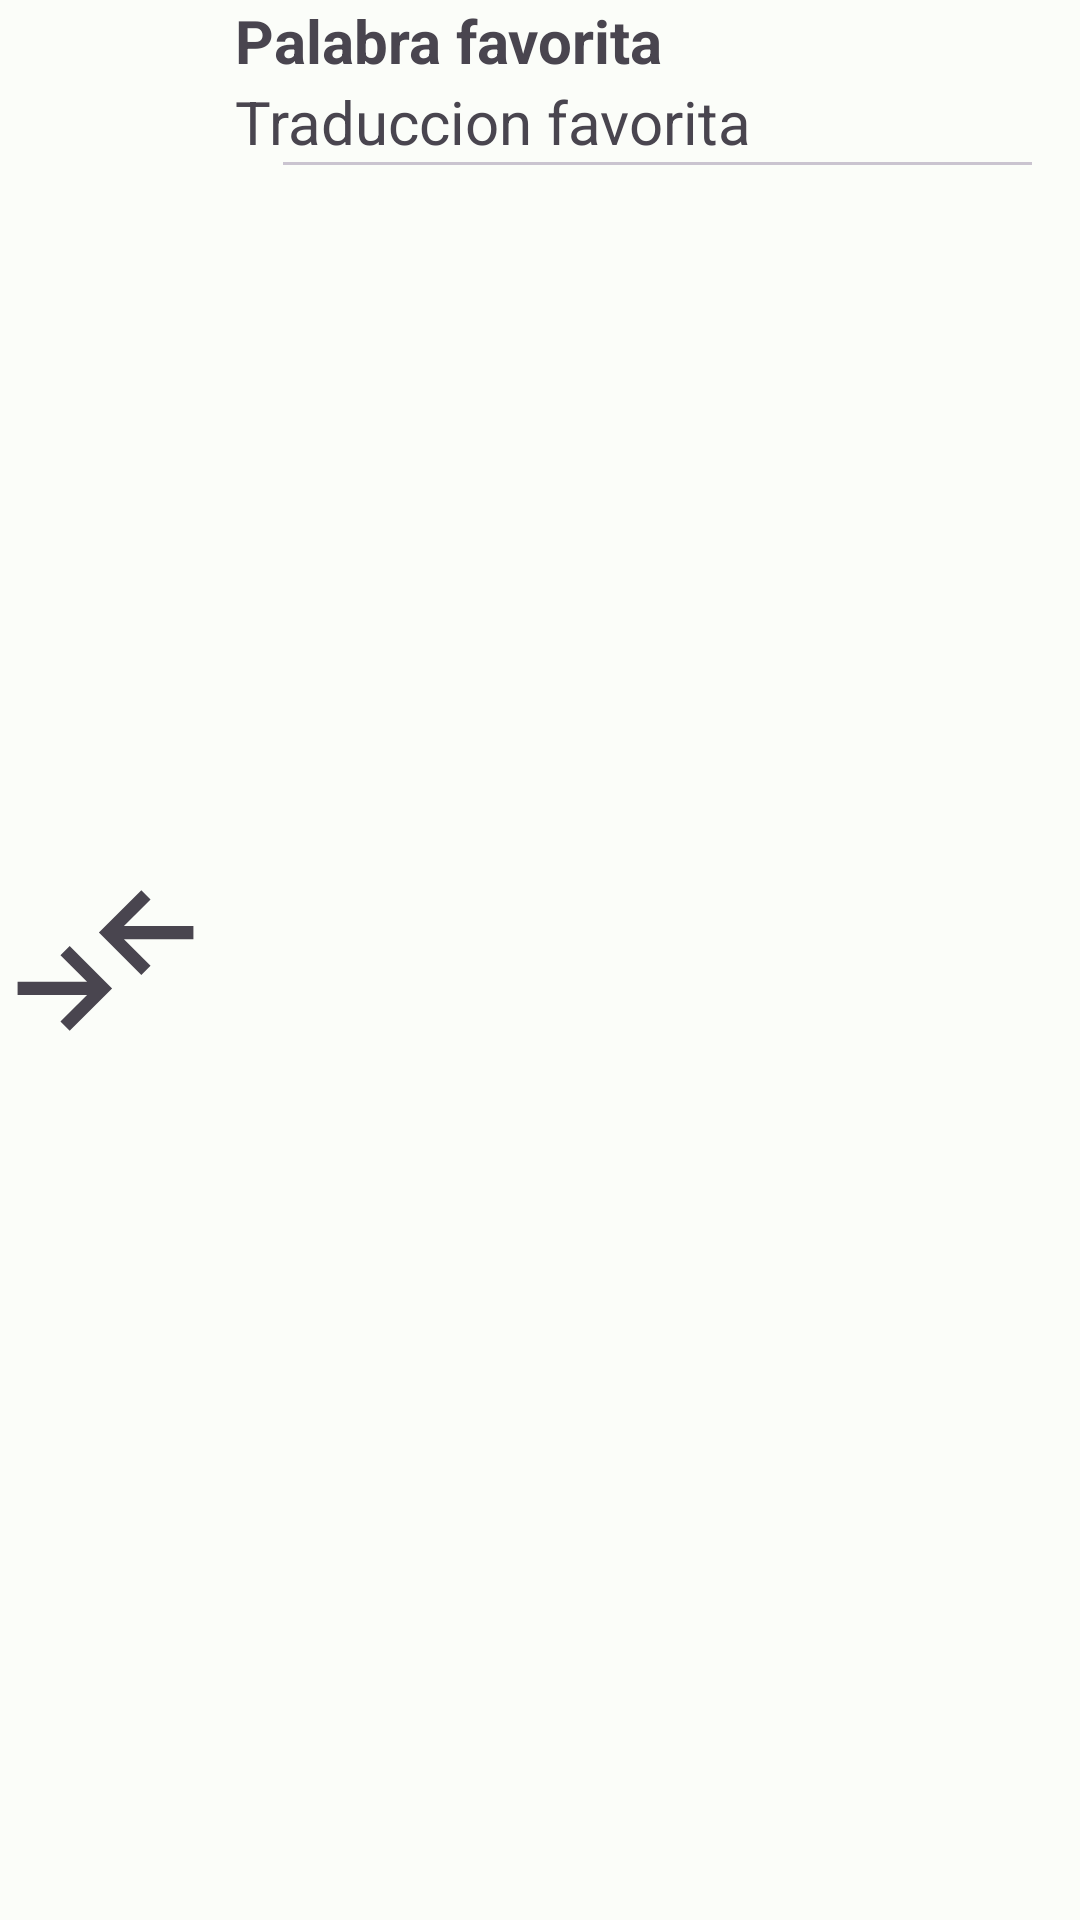

Icon bounding boxes for this 1080 × 1920 phone screenshot, format (x1, y1, x2, y2):
compare arrows: (17, 890, 194, 1031)
